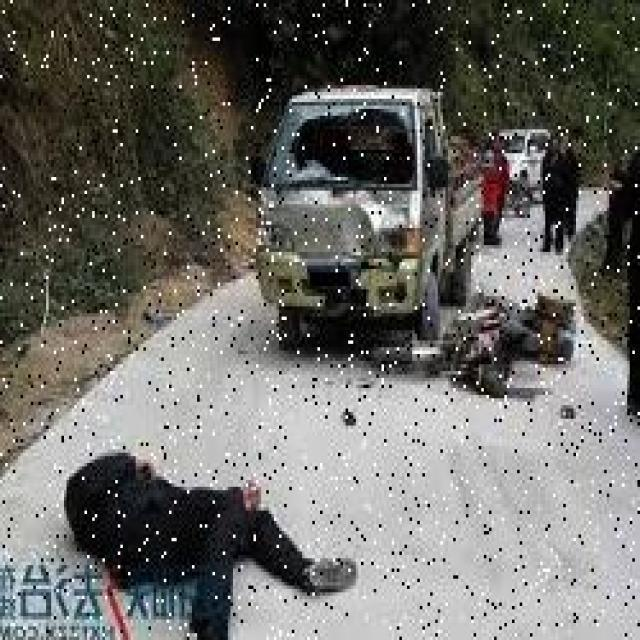fall: (62, 426, 348, 634)
